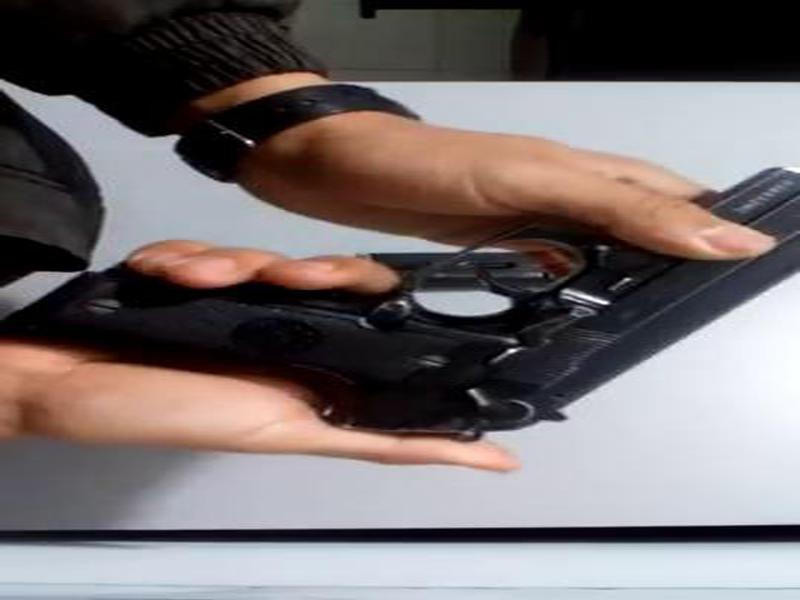Pistola: (28, 144, 800, 443)
